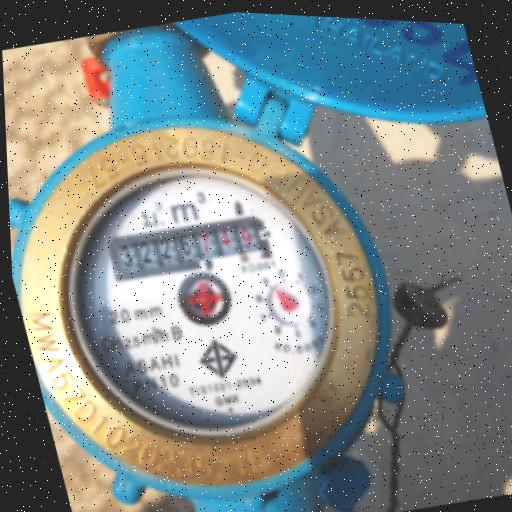2: (136, 238, 157, 270), (156, 235, 177, 267)
3: (116, 241, 138, 273)
4: (215, 225, 236, 255)
6: (175, 231, 197, 262)
7: (196, 228, 217, 259)
9: (235, 221, 257, 253)
border_water_meter_number: (102, 205, 273, 292)
